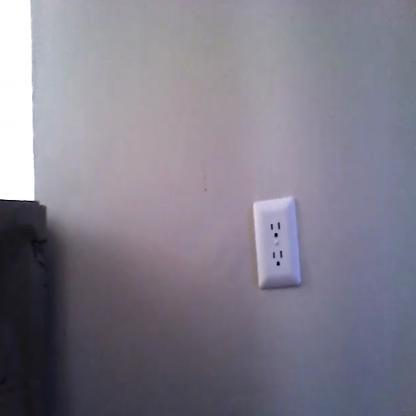OUTLET: (253, 198, 299, 284)
